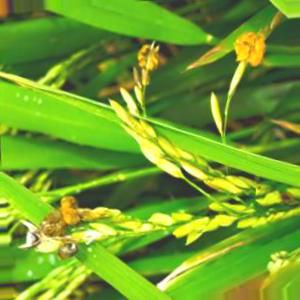Leaf_Scald: (44, 194, 78, 232), (236, 32, 266, 73), (134, 46, 168, 76)
